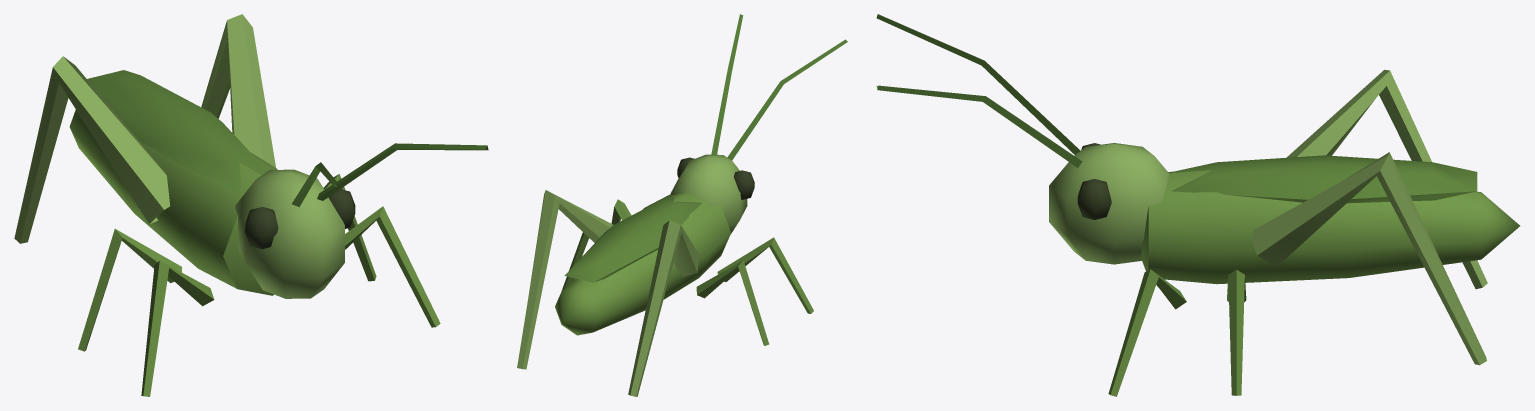
Rendered from grasshopper.glb.
The picture shows the model from 3 angles, left to right: view 1: azimuth 30°, elevation 25°; view 2: azimuth 150°, elevation 25°; view 3: azimuth 270°, elevation 25°; orthographic projection. The views are drawn at different scales.
Visible parts, largest first — view 1: grasshopper; view 2: grasshopper; view 3: grasshopper.
Part boxes in pixels (x1,y1,x2,y2): grasshopper: (14,14,488,396); grasshopper: (517,14,847,396); grasshopper: (876,14,1519,396).
Size of the model in its own units: 1.87 by 1.72 by 3.59.
